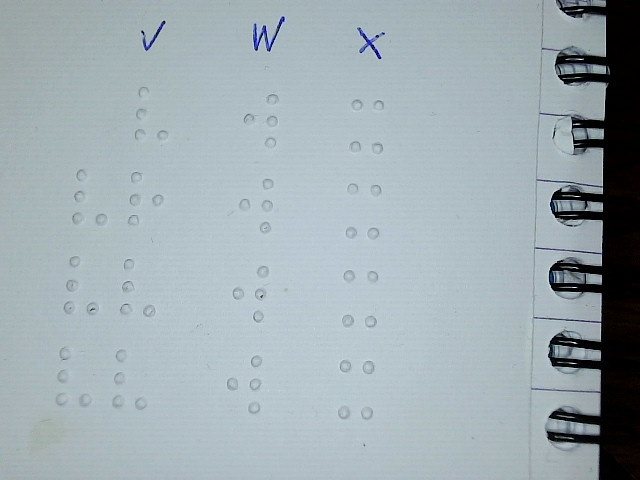V: (54, 344, 94, 408), (110, 347, 150, 411), (70, 167, 110, 226), (132, 85, 171, 142)
W: (231, 263, 270, 322), (225, 354, 264, 413), (241, 92, 280, 149), (237, 176, 276, 233)
X: (340, 268, 380, 331), (336, 358, 376, 421), (348, 98, 387, 155), (344, 182, 383, 239)
